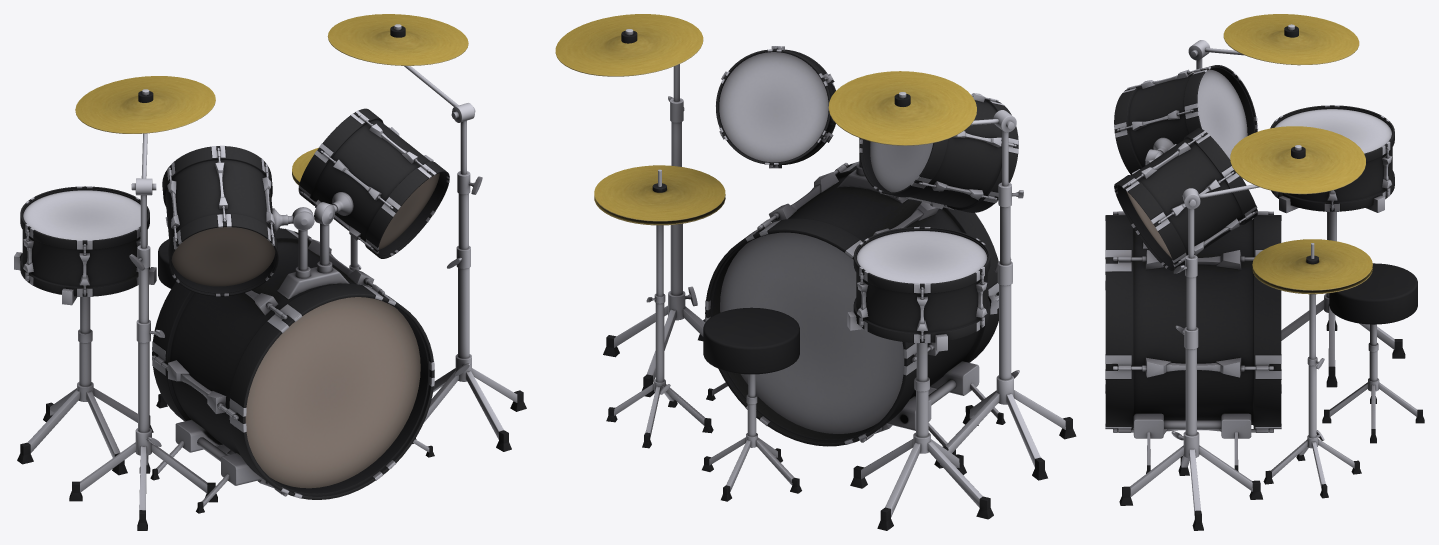
The model's file is Drum Set.FBX.
The picture shows the model from 3 angles, left to right: view 1: azimuth 30°, elevation 25°; view 2: azimuth 150°, elevation 25°; view 3: azimuth 270°, elevation 25°; orthographic projection. The views are drawn at different scales.
Visible parts, largest first — view 1: Box04, Object13, Object14, Object03, Object05, Object02; view 2: Box04, Object13, Object14, Object03, Object05, Object02; view 3: Box04, Object03, Object13, Object05, Object14, Object02.
Part boxes in pixels (x1,y1,x2,y2): Box04: [150, 108, 449, 513]; Object13: [14, 186, 156, 475]; Object14: [69, 76, 217, 530]; Object03: [327, 14, 526, 451]; Object05: [292, 147, 361, 270]; Object02: [156, 239, 175, 408]; Box04: [705, 46, 1018, 455]; Object13: [847, 226, 997, 530]; Object14: [828, 71, 1076, 480]; Object03: [555, 14, 705, 397]; Object05: [594, 165, 725, 448]; Object02: [702, 307, 801, 501]; Box04: [1105, 65, 1281, 473]; Object03: [1119, 126, 1365, 530]; Object13: [1270, 105, 1405, 387]; Object05: [1252, 239, 1372, 498]; Object14: [1188, 14, 1359, 69]; Object02: [1322, 263, 1424, 443].
Size of the model in its own units: 370 by 293 by 242.
